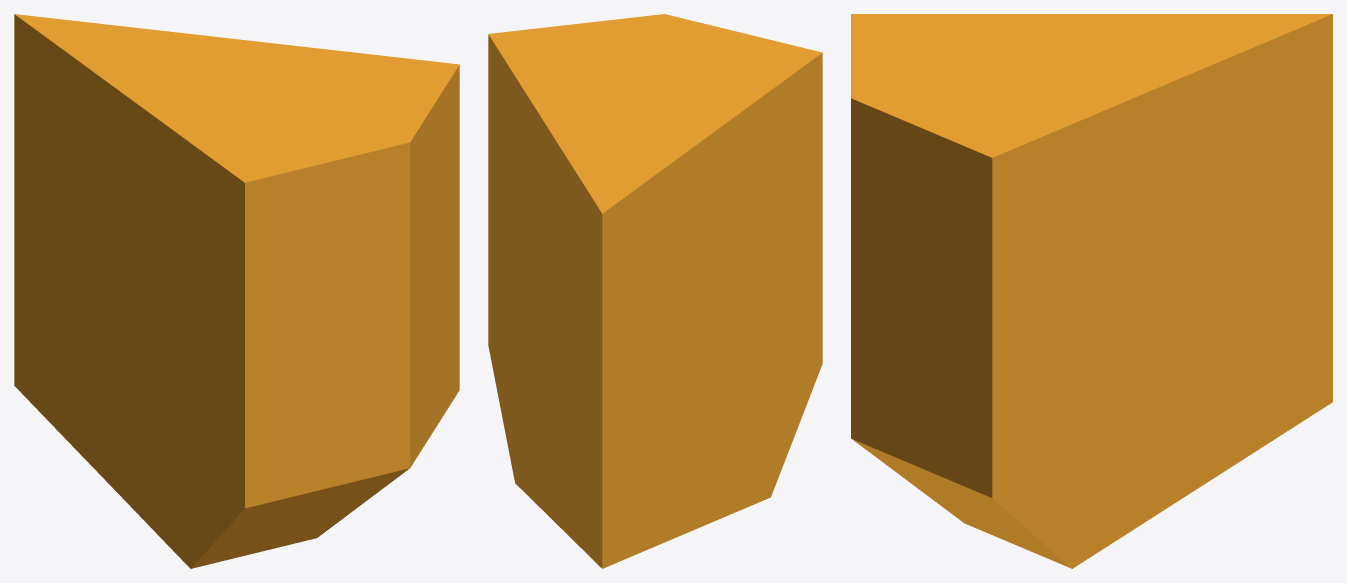
Rendered from SM_Battlement_Diagonal_Trim_Corner_A_Fantasy.fbx.
The picture shows the model from 3 angles, left to right: view 1: azimuth 30°, elevation 25°; view 2: azimuth 150°, elevation 25°; view 3: azimuth 270°, elevation 25°; orthographic projection. The views are drawn at different scales.
Visible parts, largest first — view 1: SM_Battlement_Diagonal_Trim_Corner_A_Fantasy; view 2: SM_Battlement_Diagonal_Trim_Corner_A_Fantasy; view 3: SM_Battlement_Diagonal_Trim_Corner_A_Fantasy.
Boxes of the visible parts, x1=… form: SM_Battlement_Diagonal_Trim_Corner_A_Fantasy: x1=14, y1=14, x2=459, y2=568; SM_Battlement_Diagonal_Trim_Corner_A_Fantasy: x1=488, y1=14, x2=822, y2=568; SM_Battlement_Diagonal_Trim_Corner_A_Fantasy: x1=851, y1=14, x2=1332, y2=568.
Bounding box in the file's own units: 0.2286 × 0.3294 × 0.3232.
